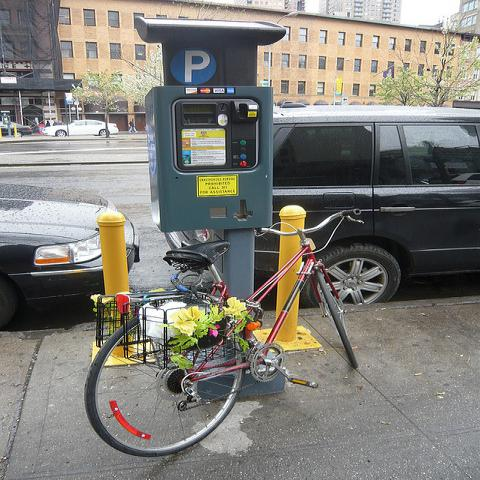car: (263, 108, 479, 309), (0, 174, 144, 317), (41, 119, 120, 137), (0, 122, 33, 137)
